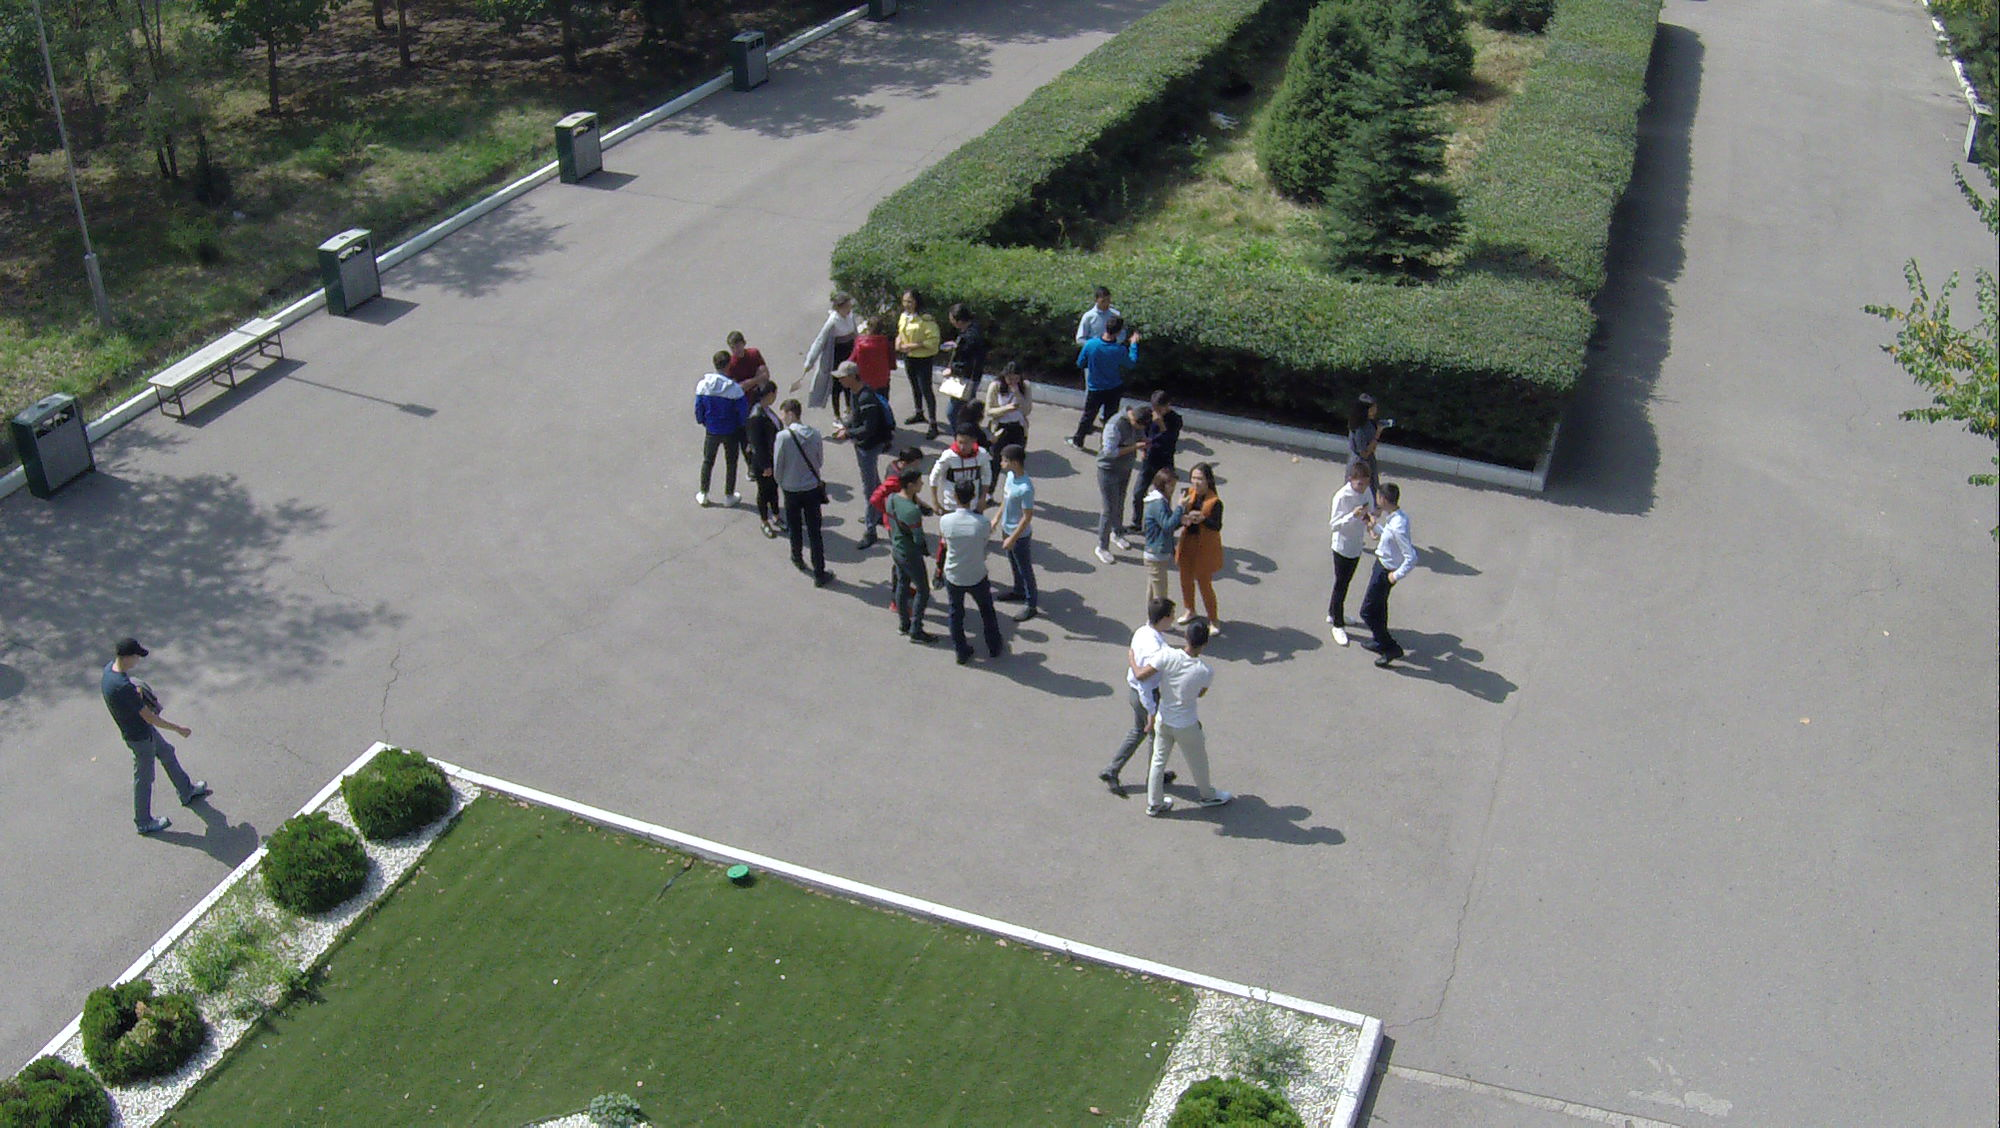person: (85, 620, 216, 851), (1143, 624, 1239, 822), (1103, 608, 1178, 803), (935, 480, 1007, 674), (1357, 480, 1422, 689), (778, 410, 845, 595), (835, 362, 893, 545), (1182, 462, 1241, 630), (1093, 393, 1141, 572), (889, 470, 939, 633), (693, 358, 747, 510), (930, 303, 985, 439), (997, 453, 1043, 614), (1332, 460, 1370, 655), (1141, 470, 1191, 610), (899, 285, 937, 430), (749, 378, 780, 543), (995, 368, 1037, 464), (1145, 395, 1187, 487), (1349, 383, 1389, 476), (1082, 318, 1107, 445), (941, 428, 989, 493), (826, 289, 866, 349), (726, 320, 760, 380), (1087, 287, 1118, 341)
